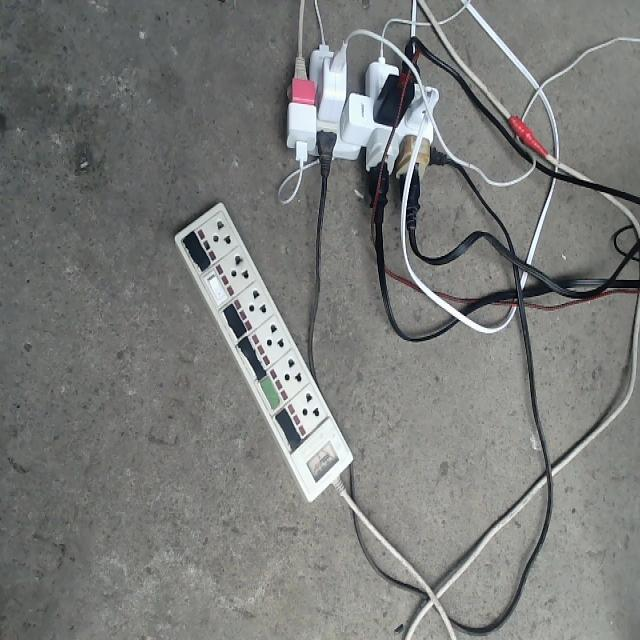-: (281, 22, 448, 194)
